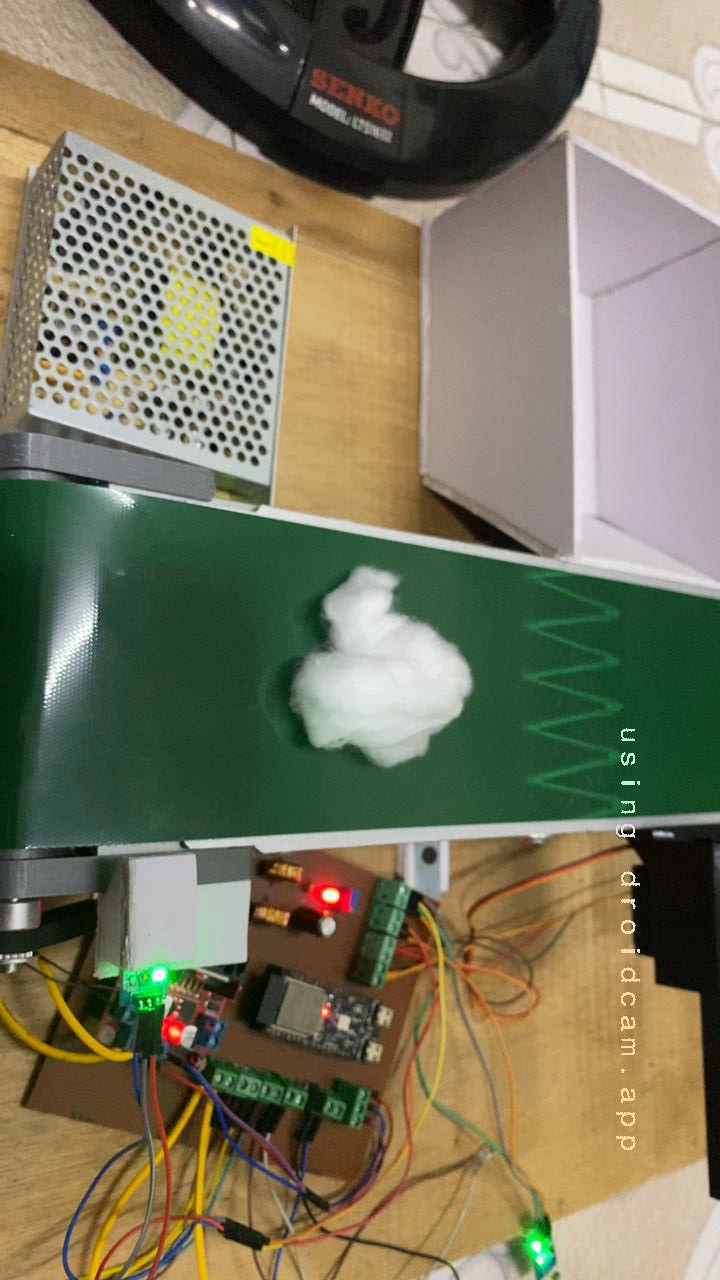cotton: (259, 546, 493, 792)
